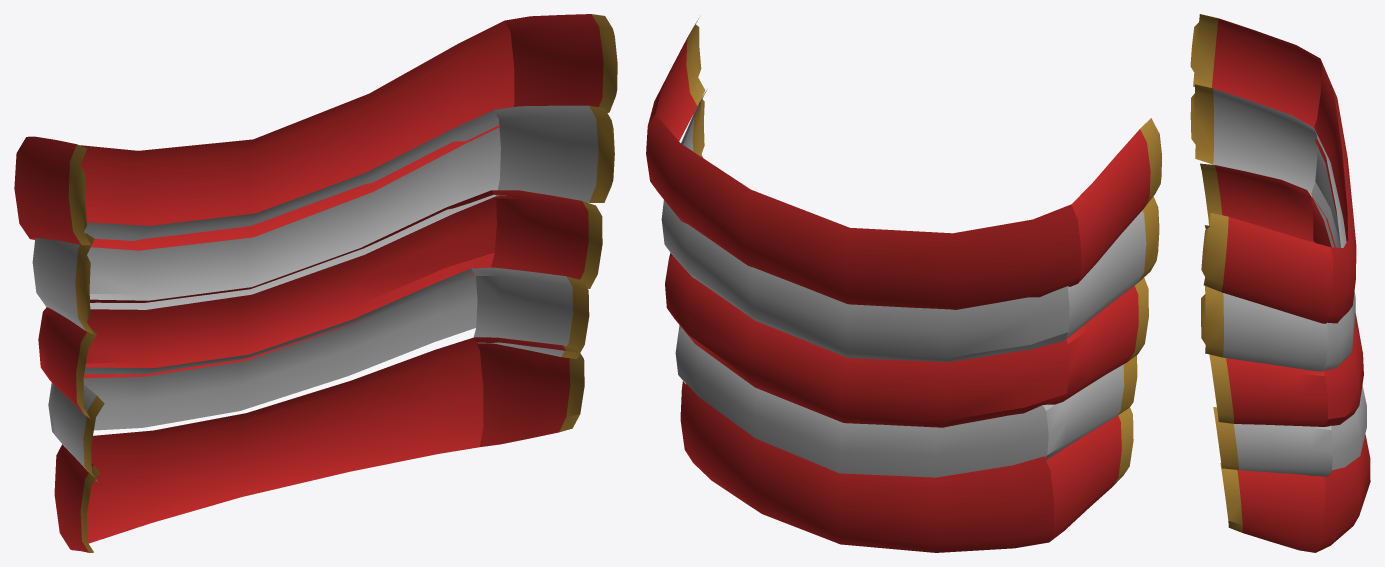
File: PalmBackBottom.fbx
3 renders of one model, left to right at view 1: azimuth 30°, elevation 25°; view 2: azimuth 150°, elevation 25°; view 3: azimuth 270°, elevation 25°, orthographic. The views are drawn at different scales.
Visible parts, largest first — view 1: polySurface46; view 2: polySurface46; view 3: polySurface46.
Boxes of the visible parts, x1,y1,x2,y2 form: polySurface46: [14, 14, 617, 552]; polySurface46: [646, 18, 1161, 552]; polySurface46: [1190, 14, 1370, 552].
Size of the model in its own units: 50.02 by 43 by 18.46.
